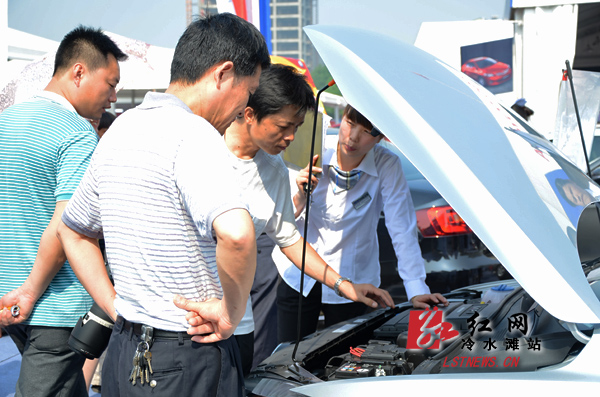other: (51, 11, 270, 390)
